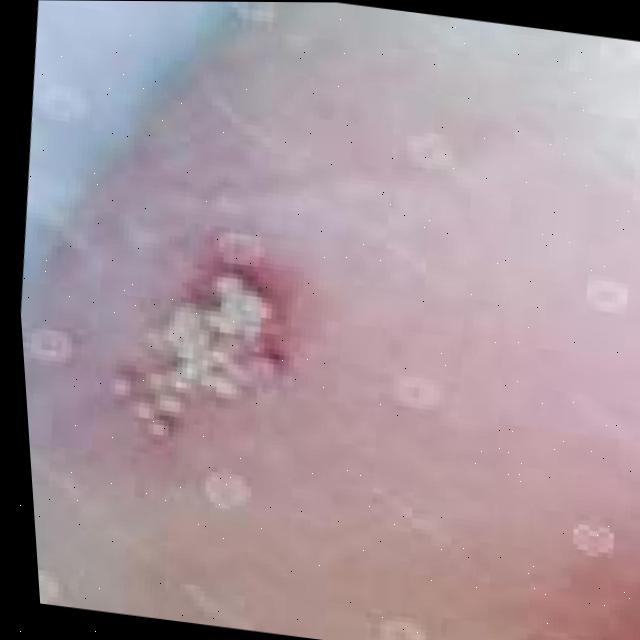Shingles: (97, 255, 303, 455)
